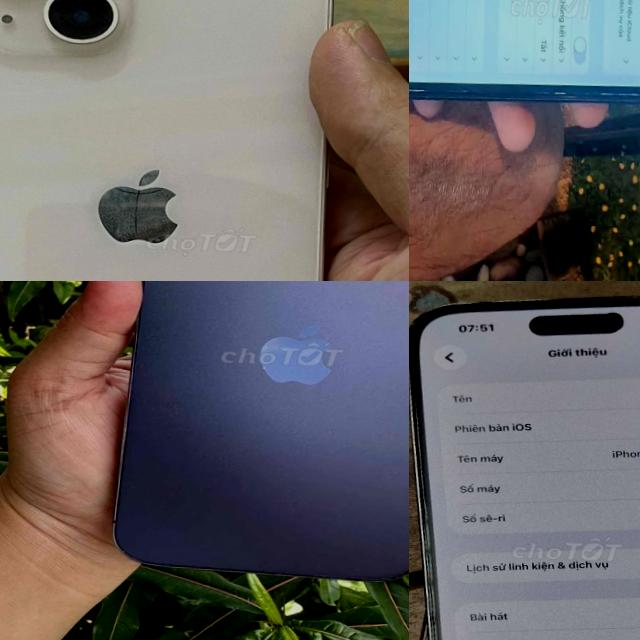gen_11: (409, 0, 640, 102)
gen_12_13: (0, 0, 360, 281)
gen_14: (103, 281, 409, 594), (409, 281, 640, 640)
